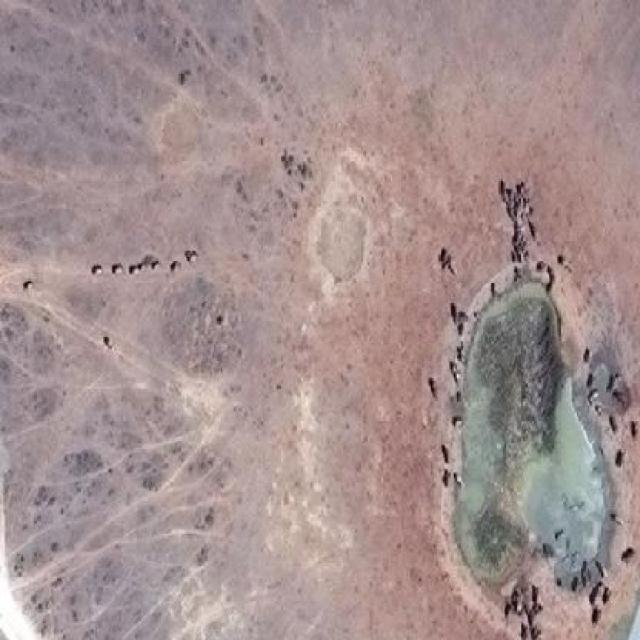elephant: (102, 328, 122, 360), (131, 254, 154, 278), (582, 598, 604, 622), (428, 375, 444, 407), (124, 256, 141, 286), (23, 269, 37, 302), (584, 592, 602, 617), (187, 242, 202, 270), (580, 561, 592, 596), (541, 272, 557, 298), (110, 259, 127, 283), (153, 252, 170, 276), (453, 464, 470, 487), (456, 338, 470, 365), (572, 577, 586, 603), (447, 300, 459, 328), (531, 222, 544, 247), (456, 314, 472, 334), (623, 545, 637, 566), (439, 466, 450, 492), (93, 252, 102, 282), (610, 513, 624, 532), (616, 442, 627, 466), (452, 414, 465, 434), (446, 441, 456, 467), (611, 414, 624, 434), (529, 624, 545, 640), (602, 581, 613, 602), (496, 177, 506, 200), (170, 255, 182, 273), (488, 278, 498, 299), (596, 560, 609, 575), (518, 189, 528, 208), (513, 198, 521, 220), (584, 372, 596, 386), (451, 360, 458, 382), (527, 608, 536, 624), (534, 586, 541, 606), (539, 254, 547, 271), (587, 392, 599, 403), (515, 249, 527, 260), (506, 191, 514, 207), (509, 248, 518, 262), (521, 623, 528, 640), (599, 401, 606, 417), (517, 234, 523, 252), (610, 374, 616, 389), (516, 213, 524, 224), (452, 260, 458, 274), (515, 267, 520, 281), (584, 348, 588, 362), (443, 254, 448, 264)
